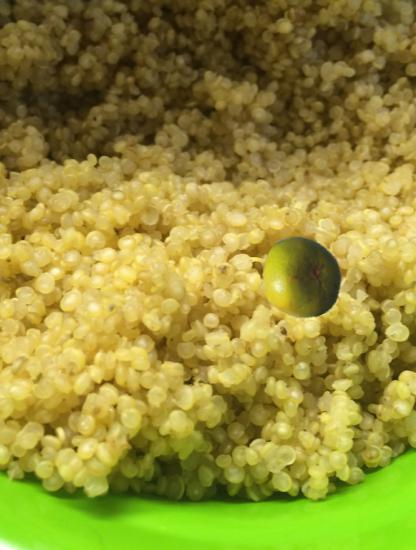Pomelo: (258, 235, 344, 321)
